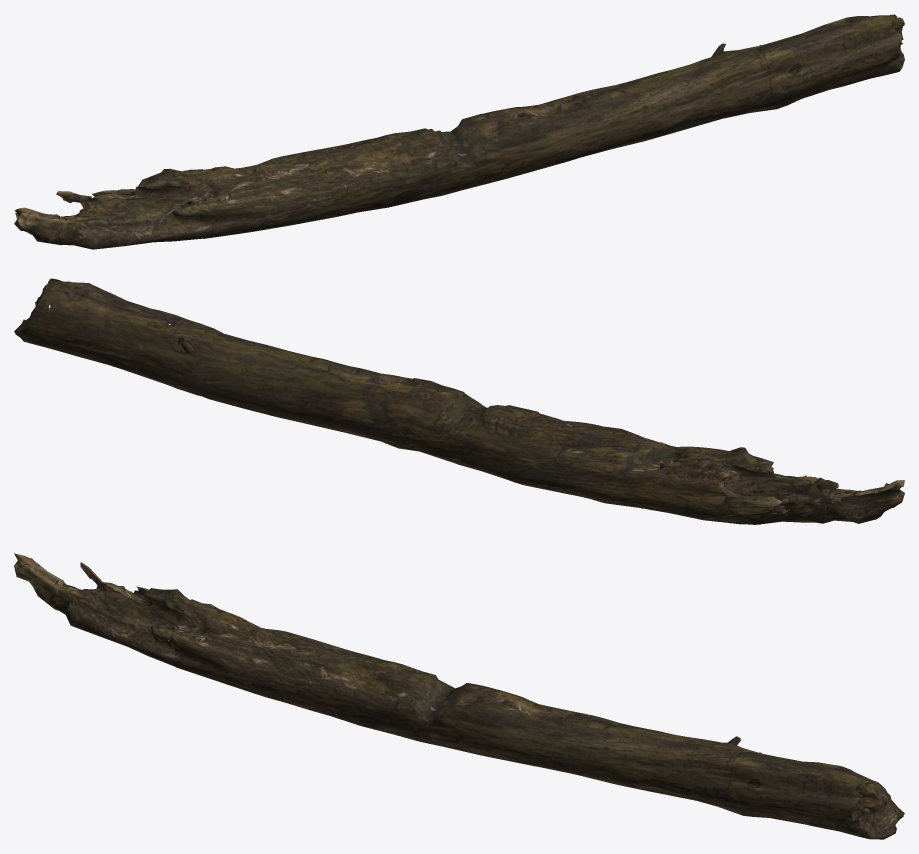
File: log_dead.glb
3 renders of one model, top to bottom at view 1: azimuth 30°, elevation 25°; view 2: azimuth 150°, elevation 25°; view 3: azimuth 330°, elevation 25°, orthographic.
Visible parts, largest first — view 1: dead_tree_trunk; view 2: dead_tree_trunk; view 3: dead_tree_trunk.
Part boxes in pixels (x1=…): dead_tree_trunk: x1=14, y1=14, x2=904, y2=249; dead_tree_trunk: x1=14, y1=278, x2=904, y2=524; dead_tree_trunk: x1=14, y1=553, x2=904, y2=839.
Bounding box in the file's own units: 3.05 × 0.2898 × 0.275.
1 material, 1 textured.
